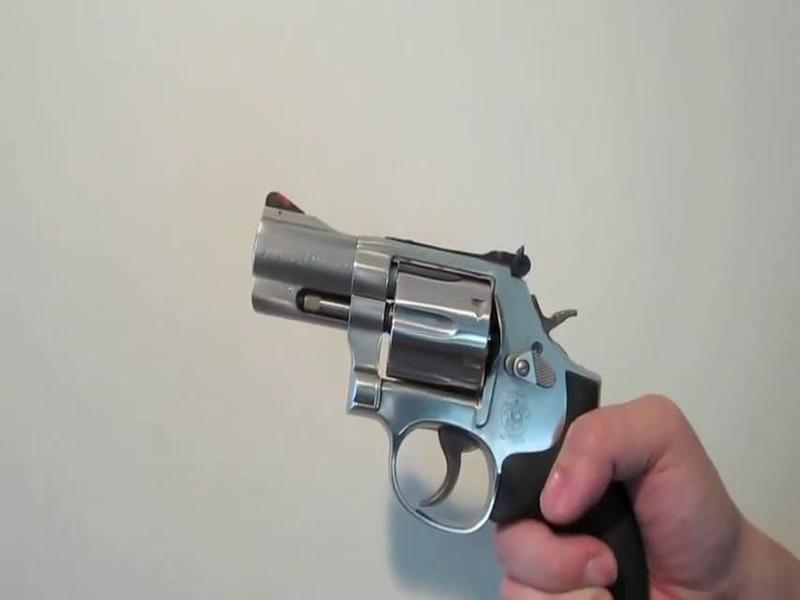Revolver: (238, 189, 689, 600)
